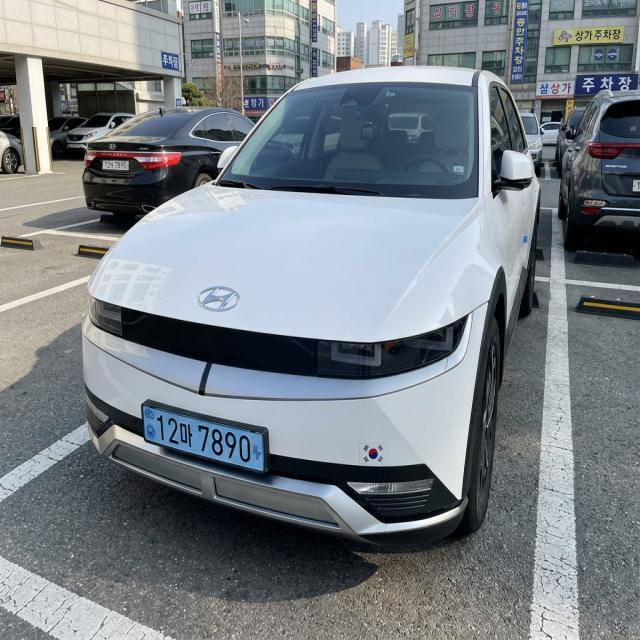car: (134, 391, 283, 487)
carev: (250, 423, 271, 479), (140, 396, 158, 454)
